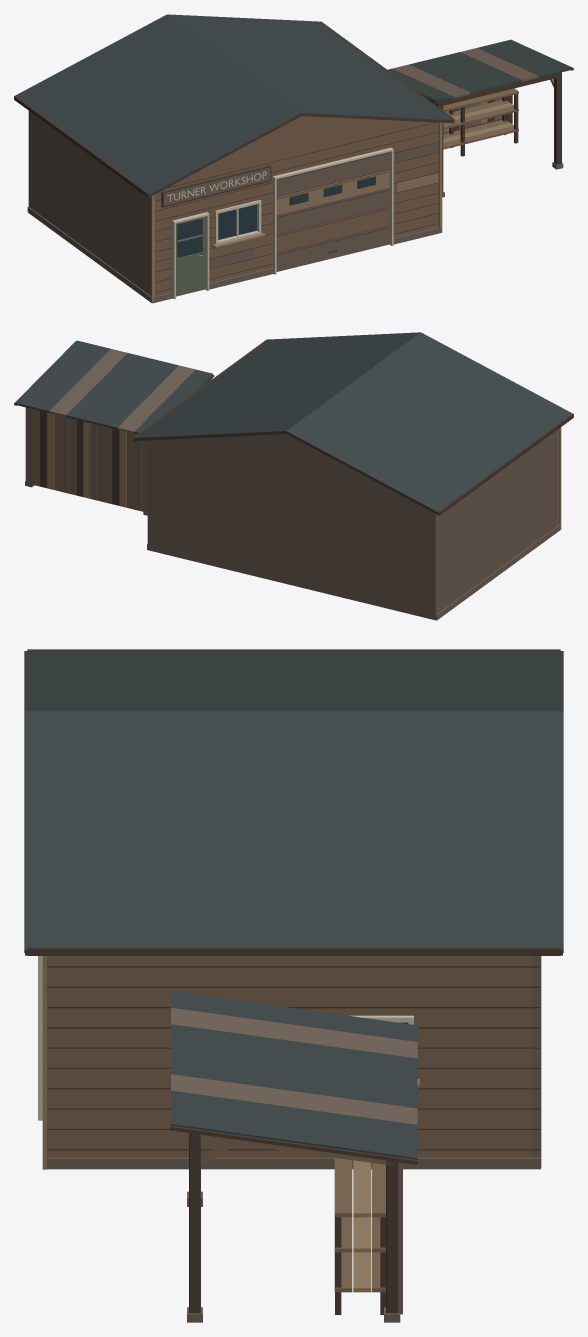
Rendered from Turner_Architecture.fbx.
3 views of the same model, one above another, from view 1: azimuth 30°, elevation 25°; view 2: azimuth 150°, elevation 25°; view 3: azimuth 270°, elevation 25° (orthographic). The views are drawn at different scales.
Visible parts, largest first — view 1: Turner_Workshop_Roof, Turner_Workshop_Shell, Turner_GarageDoor, Turner_Shelter_Roof, Turner_Workshop_Siding, Turner_Shelter_Shelves, Turner_Workshop_Door_Frames, Turner_PedestrianDoor, Turner_Workshop_Front_Window, Turner_Workshop_Nameboard, Turner_Shelter_Posts, Turner_Shelter_Backboards (+1 smaller); view 2: Turner_Workshop_Shell, Turner_Workshop_Roof, Turner_Shelter_Roof, Turner_Shelter_Backboards, Turner_Workshop_Siding; view 3: Turner_Workshop_Roof, Turner_Workshop_Shell, Turner_Shelter_Roof, Turner_Workshop_Siding, Turner_Shelter_Shelves, Turner_Shelter_Posts.
Boxes of the visible parts, x1=… form: Turner_Workshop_Roof: x1=14, y1=14, x2=454, y2=197; Turner_Workshop_Shell: x1=28, y1=111, x2=438, y2=296; Turner_GarageDoor: x1=276, y1=152, x2=389, y2=271; Turner_Shelter_Roof: x1=387, y1=39, x2=573, y2=103; Turner_Workshop_Siding: x1=27, y1=122, x2=442, y2=303; Turner_Shelter_Shelves: x1=443, y1=88, x2=518, y2=156; Turner_Workshop_Door_Frames: x1=172, y1=147, x2=393, y2=299; Turner_PedestrianDoor: x1=176, y1=216, x2=205, y2=296; Turner_Workshop_Front_Window: x1=212, y1=200, x2=265, y2=247; Turner_Workshop_Nameboard: x1=161, y1=165, x2=271, y2=207; Turner_Shelter_Posts: x1=432, y1=72, x2=563, y2=197; Turner_Shelter_Backboards: x1=443, y1=98, x2=502, y2=134; Turner_Workshop_Shell: x1=147, y1=429, x2=559, y2=620; Turner_Workshop_Roof: x1=133, y1=332, x2=573, y2=515; Turner_Shelter_Roof: x1=14, y1=340, x2=214, y2=434; Turner_Shelter_Backboards: x1=25, y1=407, x2=147, y2=512; Turner_Workshop_Siding: x1=147, y1=427, x2=561, y2=620; Turner_Workshop_Roof: x1=24, y1=649, x2=563, y2=955; Turner_Workshop_Shell: x1=47, y1=956, x2=541, y2=1167; Turner_Shelter_Roof: x1=170, y1=991, x2=417, y2=1164; Turner_Workshop_Siding: x1=42, y1=956, x2=540, y2=1169; Turner_Shelter_Shelves: x1=334, y1=1158, x2=385, y2=1314; Turner_Shelter_Posts: x1=187, y1=1133, x2=400, y2=1322.
Bounding box in the file's own units: 13.8 × 4.52 × 6.98.
